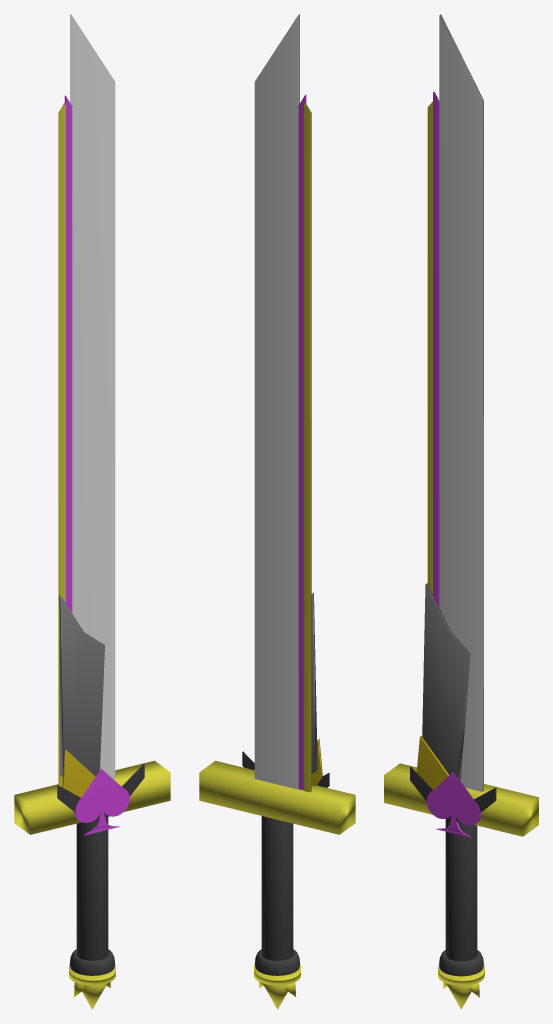
File: Sword_Black_3.fbx
3 views of the same model, side by side, from view 1: azimuth 30°, elevation 25°; view 2: azimuth 150°, elevation 25°; view 3: azimuth 330°, elevation 25° (orthographic).
Parts seen in each view (by area): view 1: Cube.016, Cube.013, Cylinder.008, Cube.015, Cube.017, Cube.021, Cube.014, Torus.002, Cube.018, Cylinder.011, Cylinder.010, Cube.020 (+1 smaller); view 2: Cube.016, Cube.017, Cube.015, Cylinder.008, Cube.021, Cube.013, Torus.002, Cylinder.009; view 3: Cube.016, Cube.013, Cylinder.008, Cube.017, Cube.021, Cube.015, Cube.014, Torus.002, Cube.018, Cylinder.011, Cylinder.010, Cube.020 (+1 smaller).
Boxes of the visible parts, left/top/right/bottom form: Cube.016: left=70, top=14, right=115, bottom=779; Cube.013: left=59, top=595, right=104, bottom=777; Cylinder.008: left=76, top=817, right=108, bottom=960; Cube.015: left=58, top=103, right=65, bottom=786; Cube.017: left=14, top=760, right=170, bottom=834; Cube.021: left=64, top=95, right=72, bottom=612; Cube.014: left=62, top=749, right=95, bottom=797; Torus.002: left=70, top=949, right=114, bottom=975; Cube.018: left=57, top=764, right=144, bottom=819; Cylinder.011: left=74, top=793, right=106, bottom=822; Cylinder.010: left=102, top=787, right=129, bottom=816; Cube.020: left=82, top=769, right=122, bottom=800; Cube.016: left=254, top=14, right=299, bottom=789; Cube.017: left=199, top=760, right=355, bottom=834; Cube.015: left=304, top=103, right=311, bottom=792; Cylinder.008: left=261, top=816, right=293, bottom=960; Cube.021: left=298, top=95, right=306, bottom=790; Cube.013: left=311, top=592, right=317, bottom=773; Torus.002: left=255, top=949, right=299, bottom=975; Cylinder.009: left=254, top=964, right=300, bottom=985; Cube.016: left=439, top=14, right=483, bottom=791; Cube.013: left=422, top=583, right=470, bottom=779; Cylinder.008: left=445, top=819, right=477, bottom=961; Cube.017: left=384, top=763, right=538, bottom=836; Cube.021: left=433, top=91, right=439, bottom=607; Cube.015: left=427, top=101, right=432, bottom=594; Cube.014: left=416, top=735, right=448, bottom=789; Torus.002: left=439, top=950, right=483, bottom=976; Cube.018: left=410, top=766, right=496, bottom=822; Cylinder.011: left=426, top=790, right=457, bottom=818; Cylinder.010: left=453, top=796, right=481, bottom=825; Cube.020: left=434, top=771, right=473, bottom=802.
Size of the model in its own units: 136 by 930 by 39.84.
